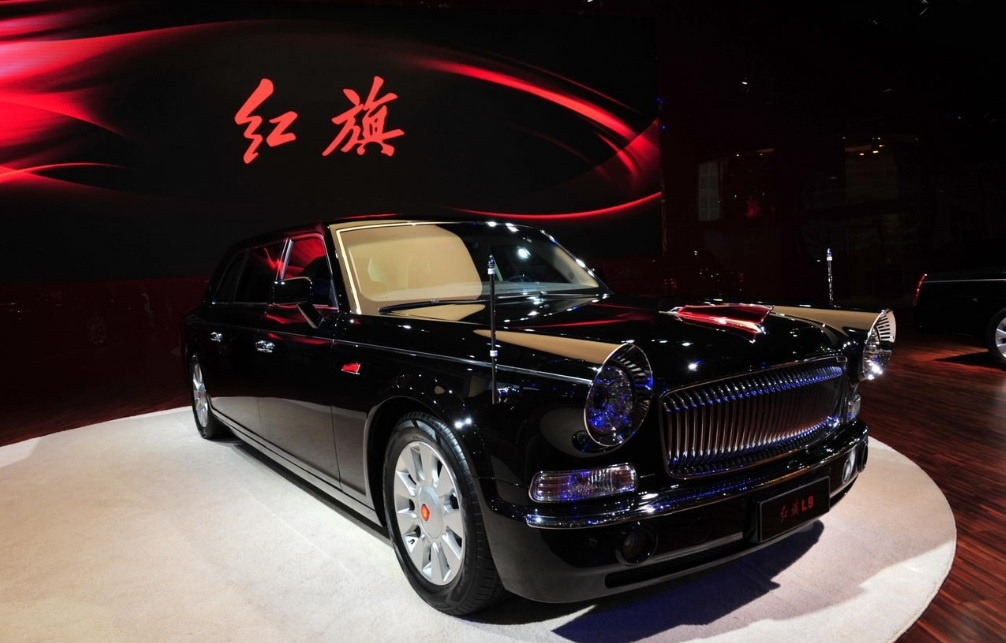family sedan: (209, 204, 902, 627)
